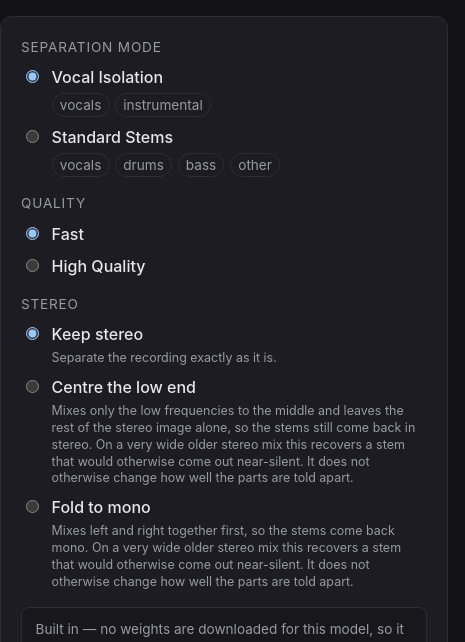
Test: SeparationOptions catalog rendering › selecting a mode swaps its quality options and resets the selection
Pick the second tier of the two-stem mode…
Click the radio button labelled "High Quality": (32, 265) [26,259,39,272]
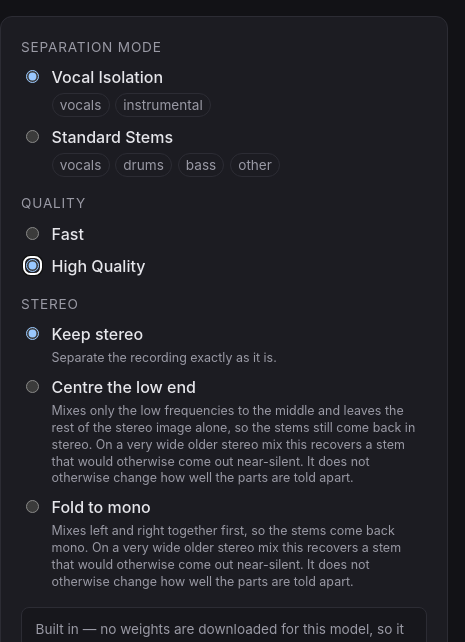
Result: the radio button labelled "High Quality" is checked at [26,259,39,272]
…then switch modes: the other mode's tiers replace them.
Click the radio button labelled "Standard Stems": (32, 137) [26,130,39,143]
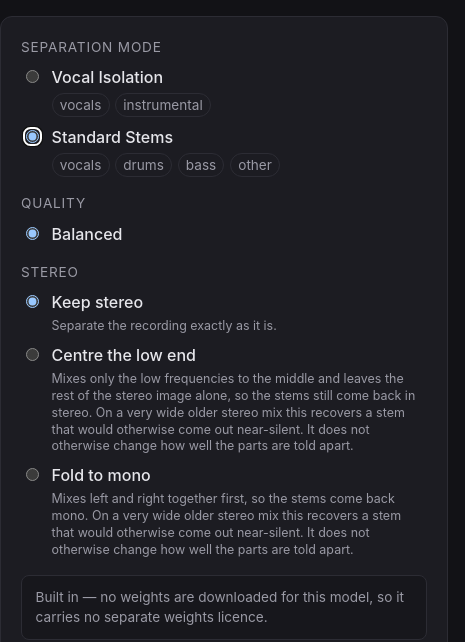
Result: the label "High Quality" is gone
Switching back resets to the first tier, not the one chosen before.
Click the radio button labelled "Vocal Isolation": (32, 77) [26,70,39,83]
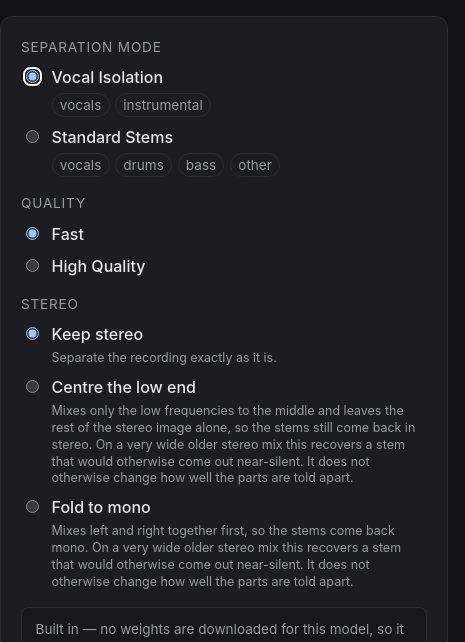
Expected: the radio button labelled "Fast" is checked, [26,227,39,240]
Result: the radio button labelled "High Quality" is not checked at [26,259,39,272]
